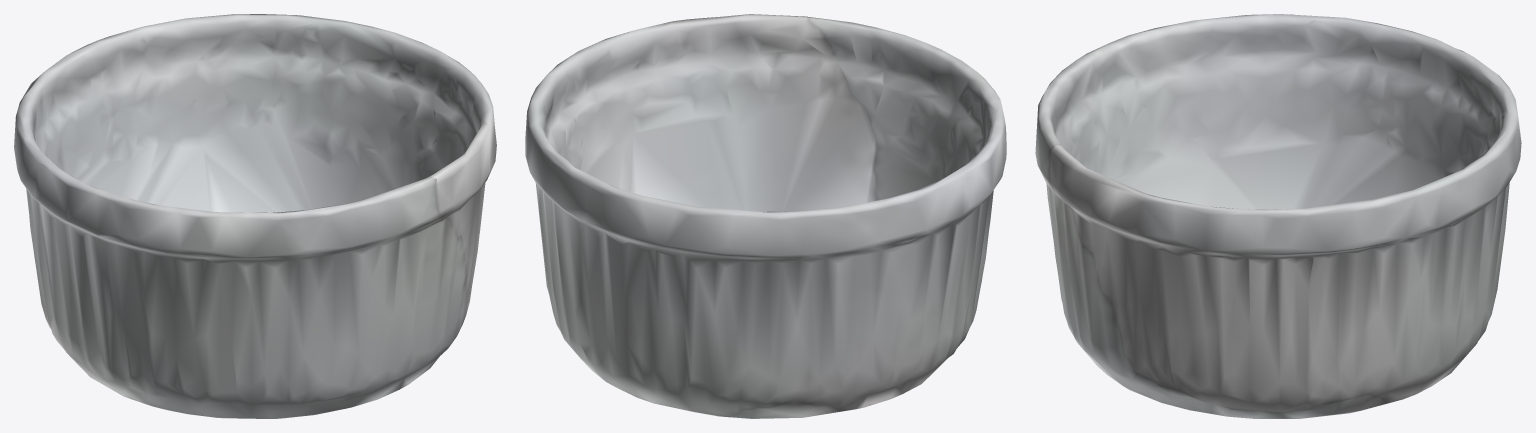
Rendered from Utana_5_Porcelain_Ramekin_Large-medium.glb.
3 views of the same model, side by side, from view 1: azimuth 30°, elevation 25°; view 2: azimuth 150°, elevation 25°; view 3: azimuth 270°, elevation 25° (orthographic).
Visible parts, largest first — view 1: Utana_5_Porcelain_Ramekin_Large; view 2: Utana_5_Porcelain_Ramekin_Large; view 3: Utana_5_Porcelain_Ramekin_Large.
Part boxes in pixels (x1=…): Utana_5_Porcelain_Ramekin_Large: x1=14, y1=14, x2=496, y2=418; Utana_5_Porcelain_Ramekin_Large: x1=525, y1=14, x2=1006, y2=418; Utana_5_Porcelain_Ramekin_Large: x1=1035, y1=14, x2=1521, y2=418.
Bounding box in the file's own units: 0.1324 × 0.0695 × 0.1317.
1 material, 1 textured.
